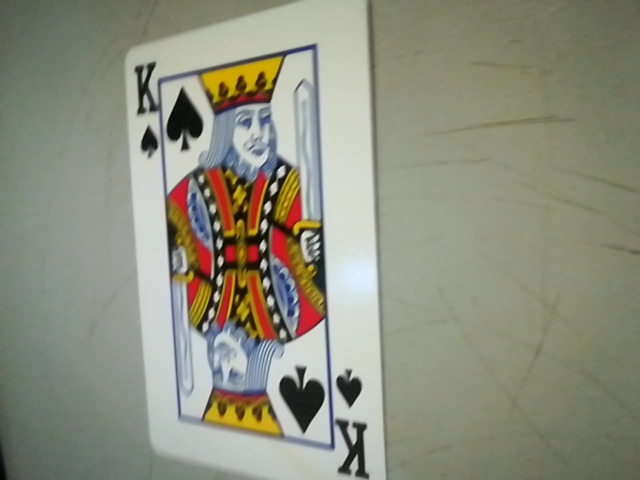ht k: (325, 363, 381, 480)
